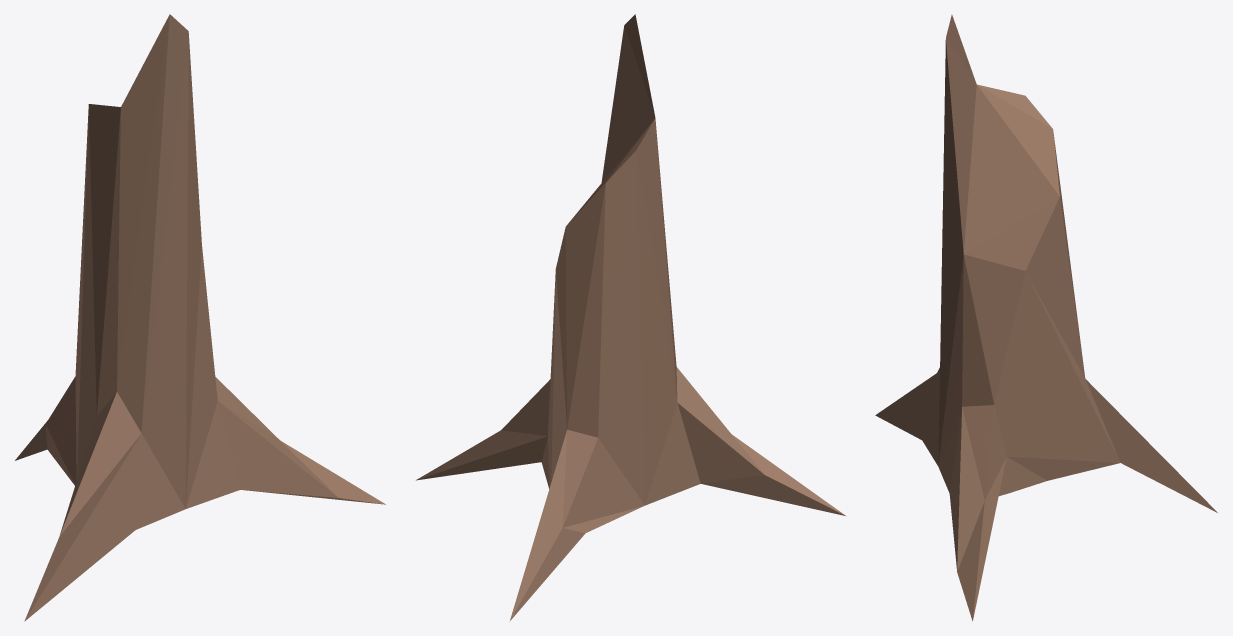
The model's file is stub 1.fbx.
The picture shows the model from 3 angles, left to right: view 1: azimuth 30°, elevation 25°; view 2: azimuth 150°, elevation 25°; view 3: azimuth 270°, elevation 25°; orthographic projection. The views are drawn at different scales.
Visible parts, largest first — view 1: tree_1; view 2: tree_1; view 3: tree_1.
Boxes of the visible parts, x1,y1,x2,y2 form: tree_1: [15, 14, 385, 621]; tree_1: [416, 14, 846, 621]; tree_1: [875, 14, 1217, 621].
Size of the model in its own units: 391 by 498 by 307.
